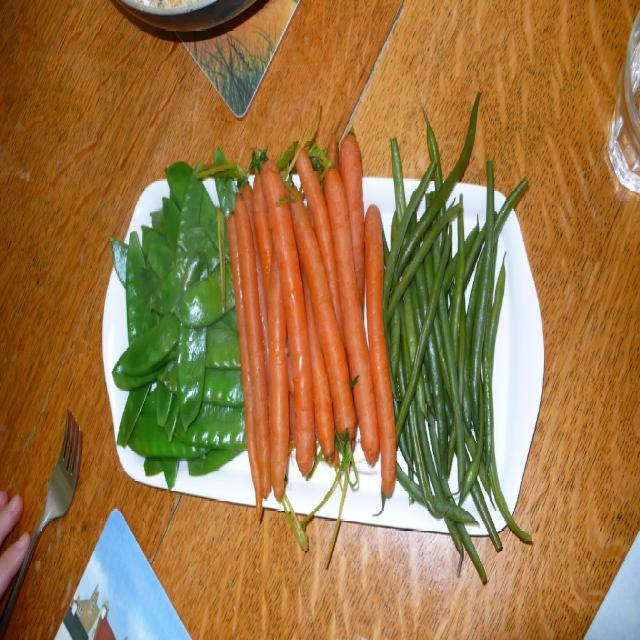Carrot: (272, 152, 314, 482)
